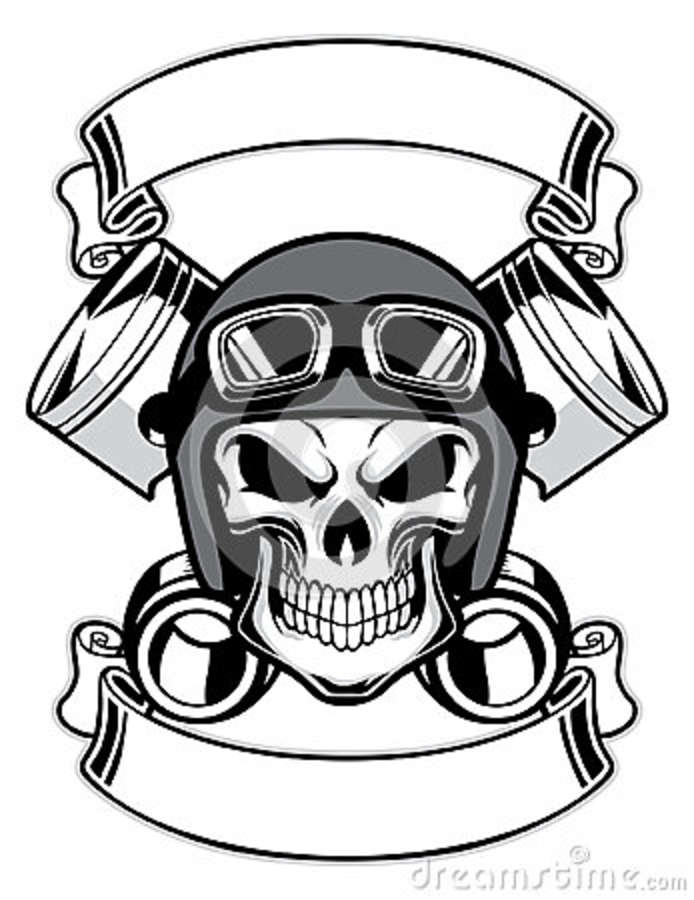with_helmet: (156, 229, 531, 598)
